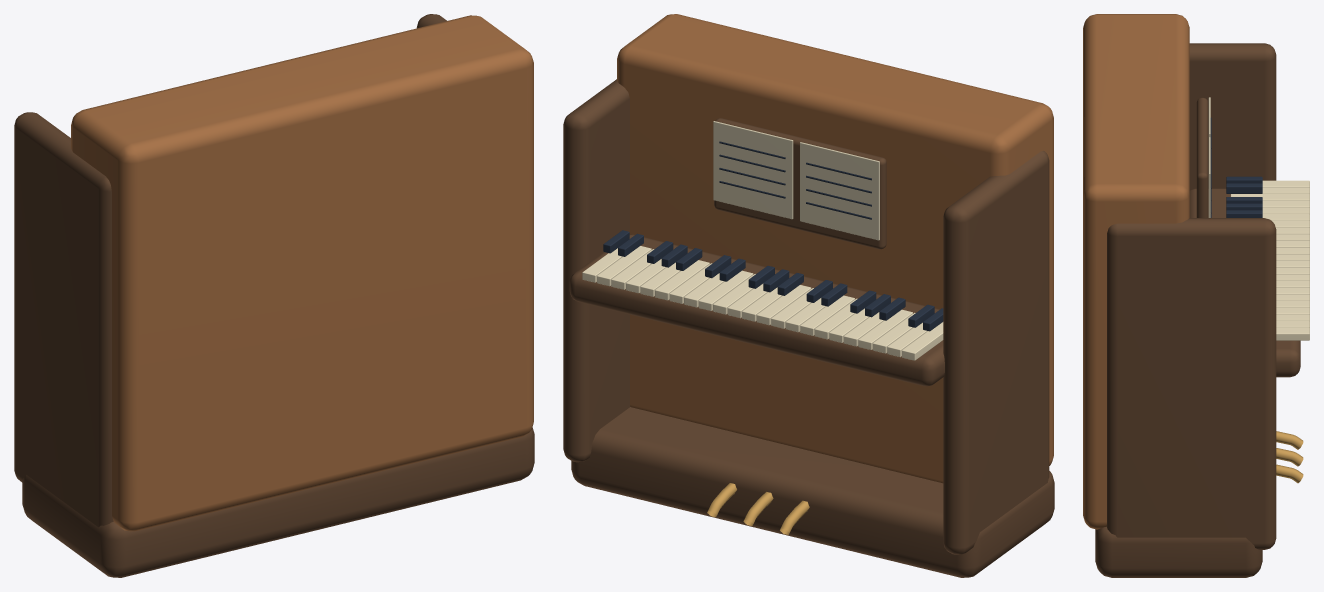
The model's file is piano.glb.
The picture shows the model from 3 angles, left to right: view 1: azimuth 30°, elevation 25°; view 2: azimuth 150°, elevation 25°; view 3: azimuth 270°, elevation 25°; orthographic projection. The views are drawn at different scales.
Parts seen in each view (by area): view 1: House07_piano; view 2: House07_piano; view 3: House07_piano.
Part boxes in pixels (x1,y1,x2,y2): House07_piano: [14, 14, 534, 577]; House07_piano: [563, 14, 1054, 577]; House07_piano: [1083, 14, 1309, 577].
Bounding box in the file's own units: 1.46 × 1.42 × 0.745.
